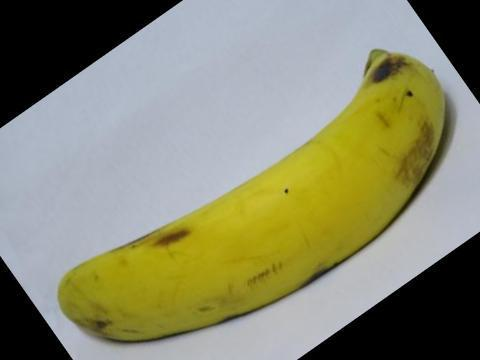freshripe: (43, 45, 451, 343)
